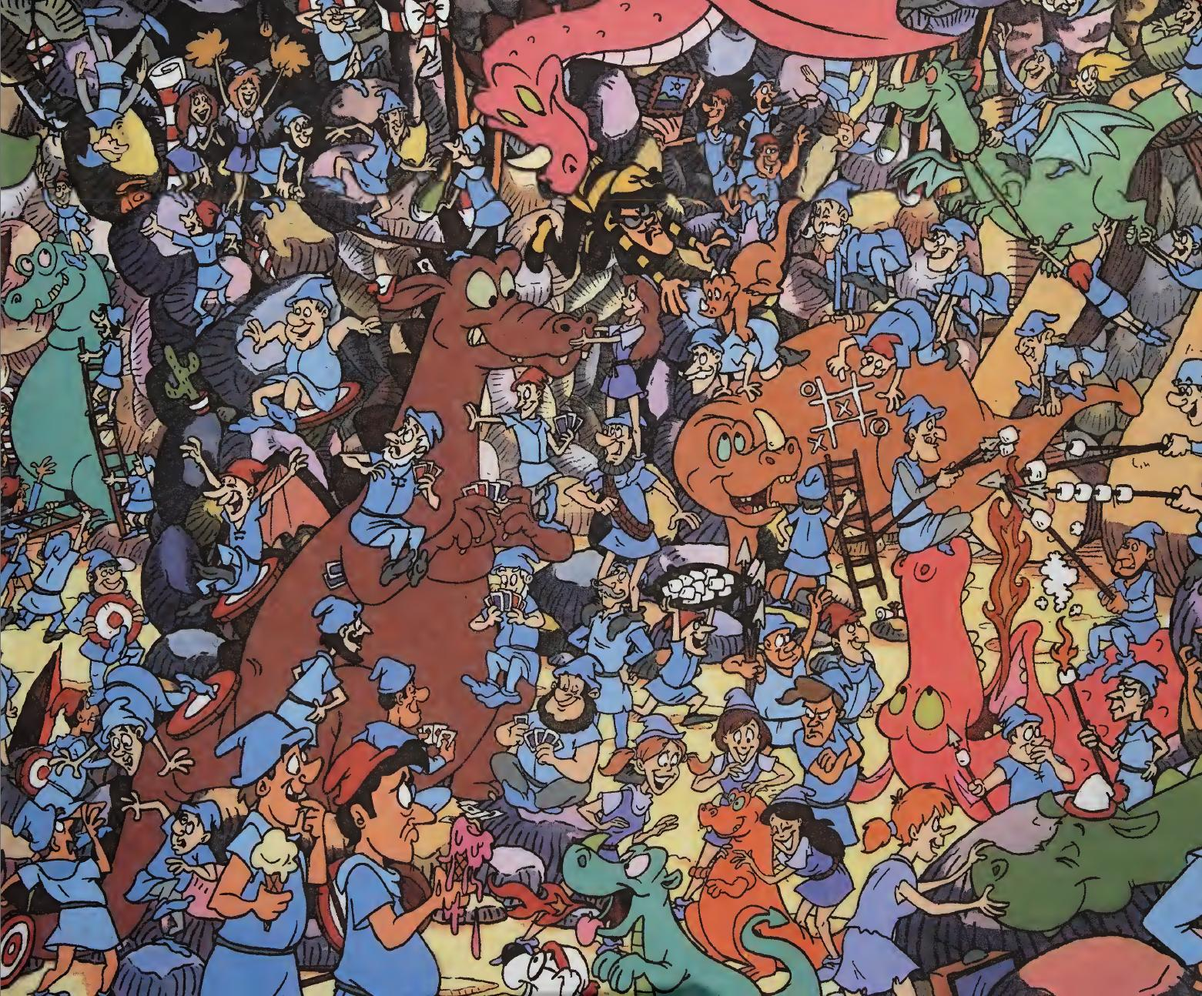waldo: (608, 169, 679, 254)
